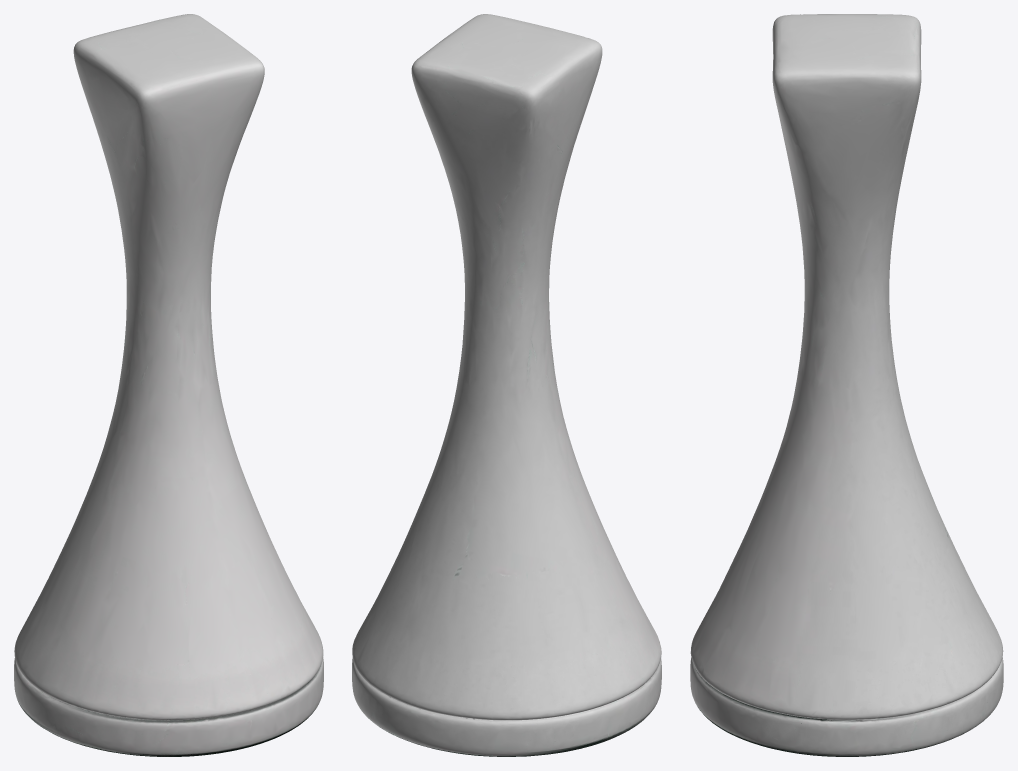
Rendered from queen-white-hd.glb.
The picture shows the model from 3 angles, left to right: view 1: azimuth 30°, elevation 25°; view 2: azimuth 150°, elevation 25°; view 3: azimuth 270°, elevation 25°; orthographic projection.
Size of the model in its own units: 0.6277 by 1.45 by 0.6279.
Materials: 1 (1 with a texture image).
